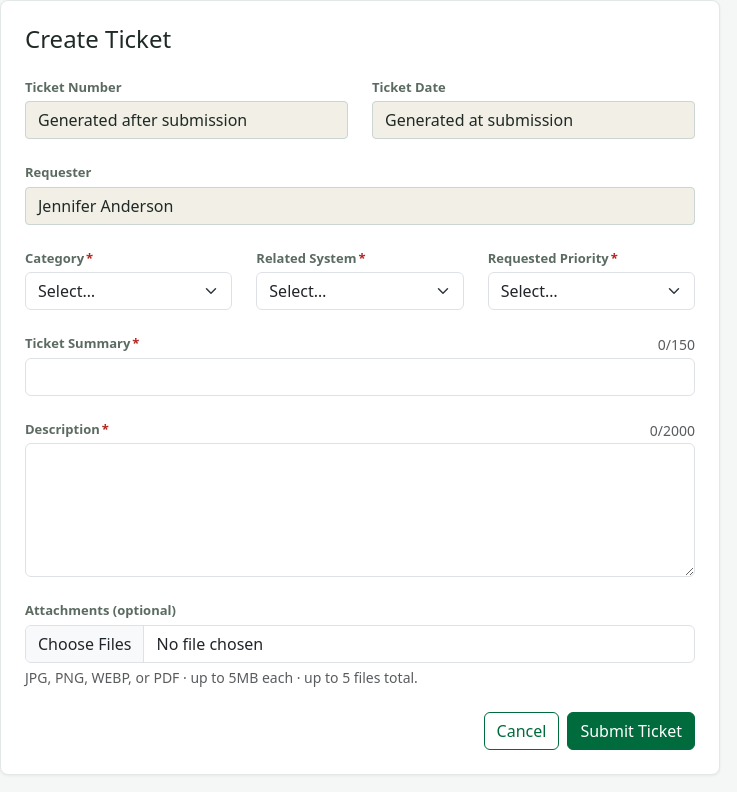
Test: CreateTicket › UI-05/UI-06: busy state then success shows the returned ticket number
Step 1. Select "Hardware" in the dropdown labelled "Category*" → (129, 291), box [25, 272, 232, 310]
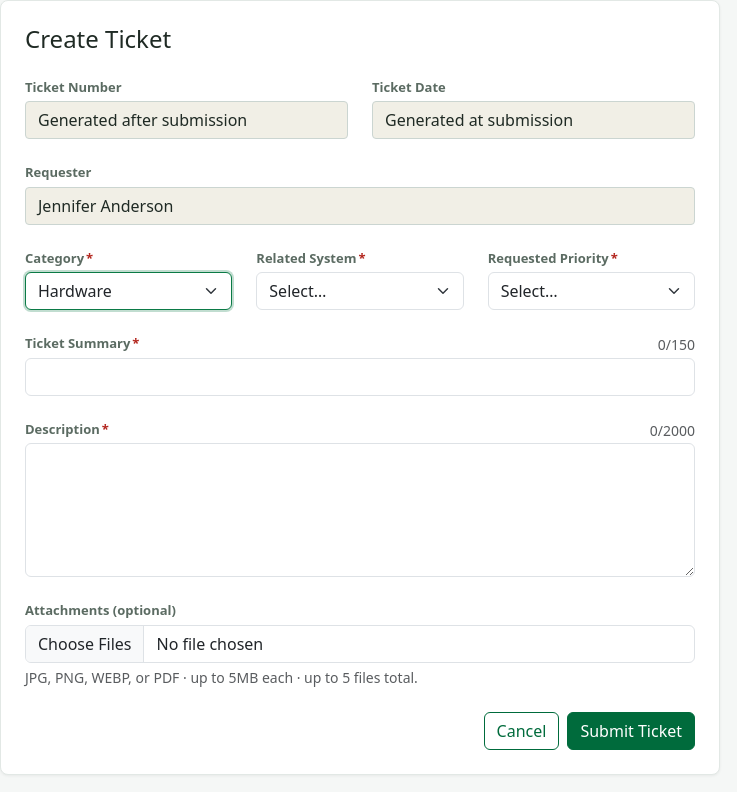
Step 2. Select "Corporate Laptop" in the dropdown labelled "Related System*" → (360, 291), box [256, 272, 464, 310]
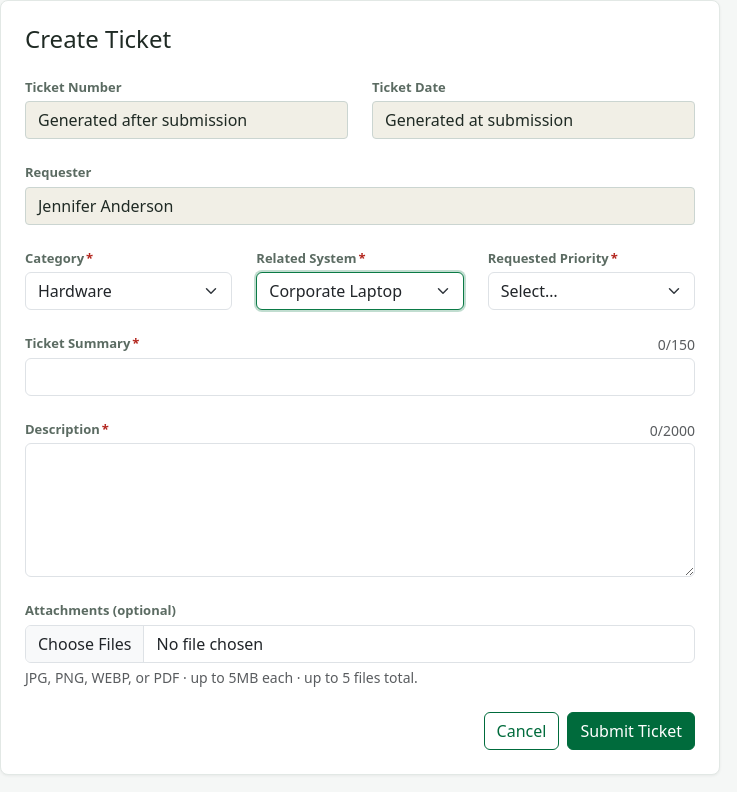
Step 3. Select "Medium" in the dropdown labelled "Requested Priority*" → (591, 291), box [488, 272, 695, 310]
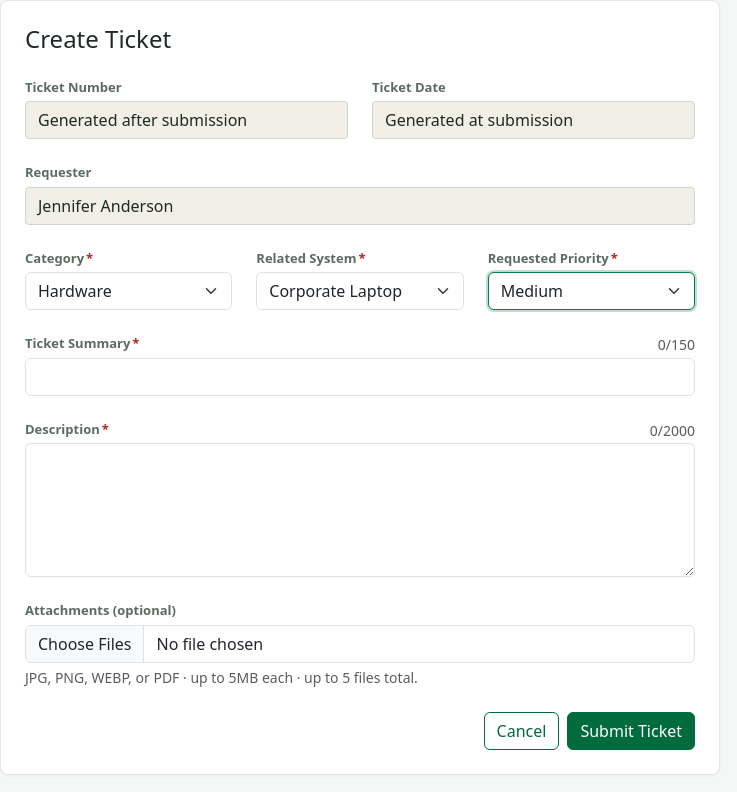
Step 4. Type "Laptop battery drains quickly" into the field labelled "Ticket Summary*" → (360, 377), box [25, 358, 695, 396]
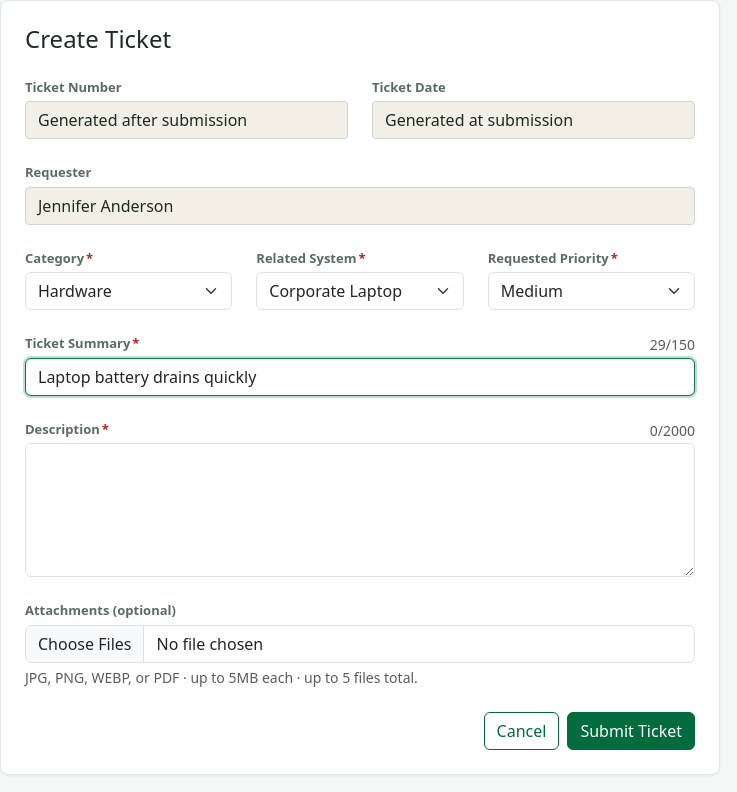
Step 5. Type "The battery drains much faster than usual even when idle." into the text box labelled "Description*" → (360, 510), box [25, 443, 695, 577]
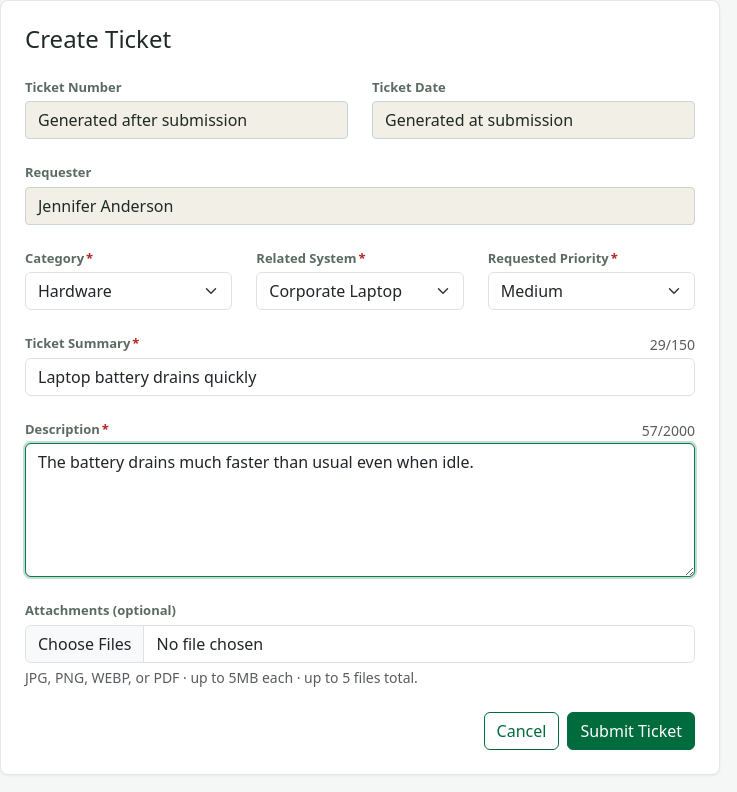
Step 6. Click the button "Submit Ticket" → (631, 731), box [567, 712, 695, 750]
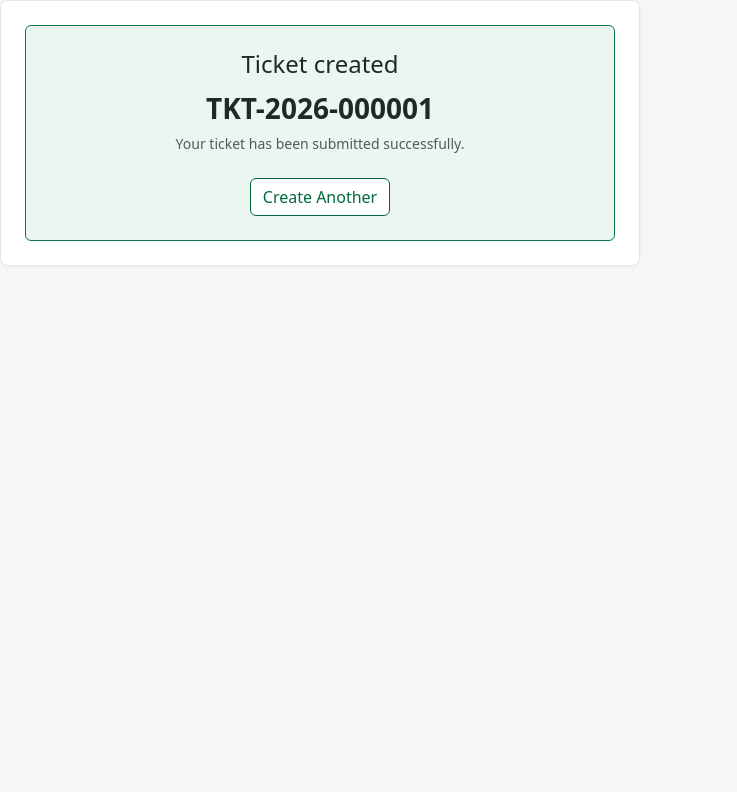
Now the text "TKT-2026-000001" is shown, box [206, 89, 434, 127]
